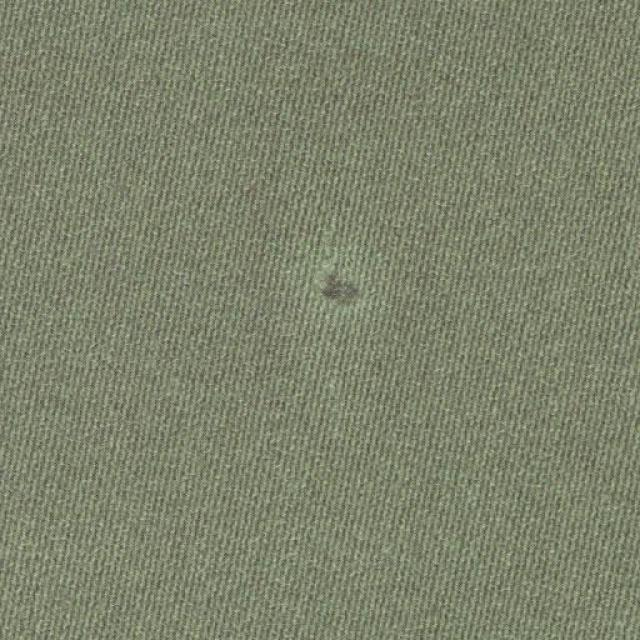Hole: (314, 265, 362, 306)
